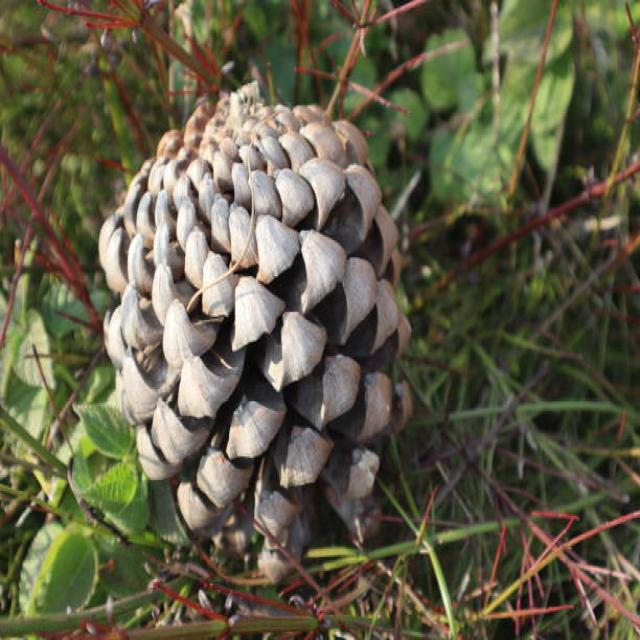Pine: (56, 61, 640, 640), (89, 50, 489, 563), (0, 264, 396, 640), (384, 4, 640, 414)
